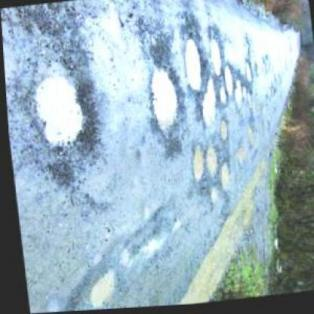Hueco: (27, 71, 100, 159), (146, 68, 180, 135), (83, 270, 119, 310), (181, 38, 203, 96), (186, 146, 206, 186), (207, 40, 223, 79), (219, 66, 234, 100), (200, 149, 216, 178), (216, 165, 230, 194), (232, 83, 242, 112), (217, 121, 228, 145), (206, 187, 218, 208), (242, 65, 253, 86)
